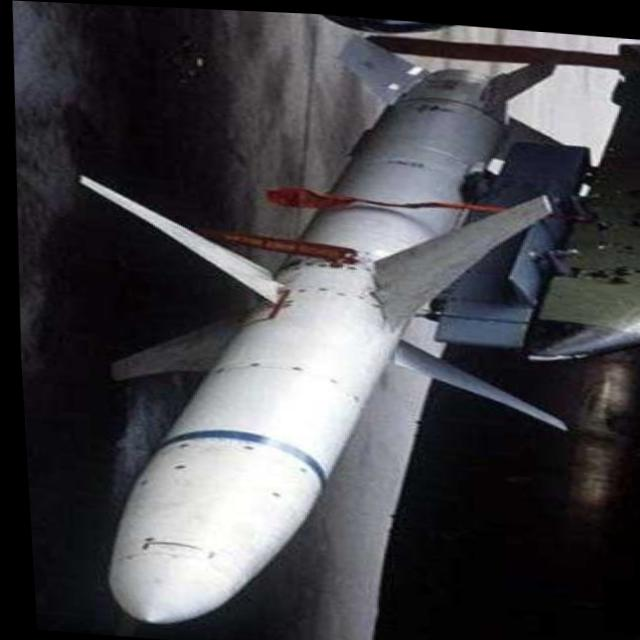missile: (57, 9, 608, 640)
